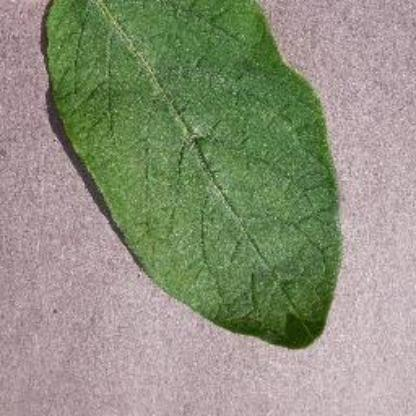Healthy-plant: (32, 0, 348, 366)
